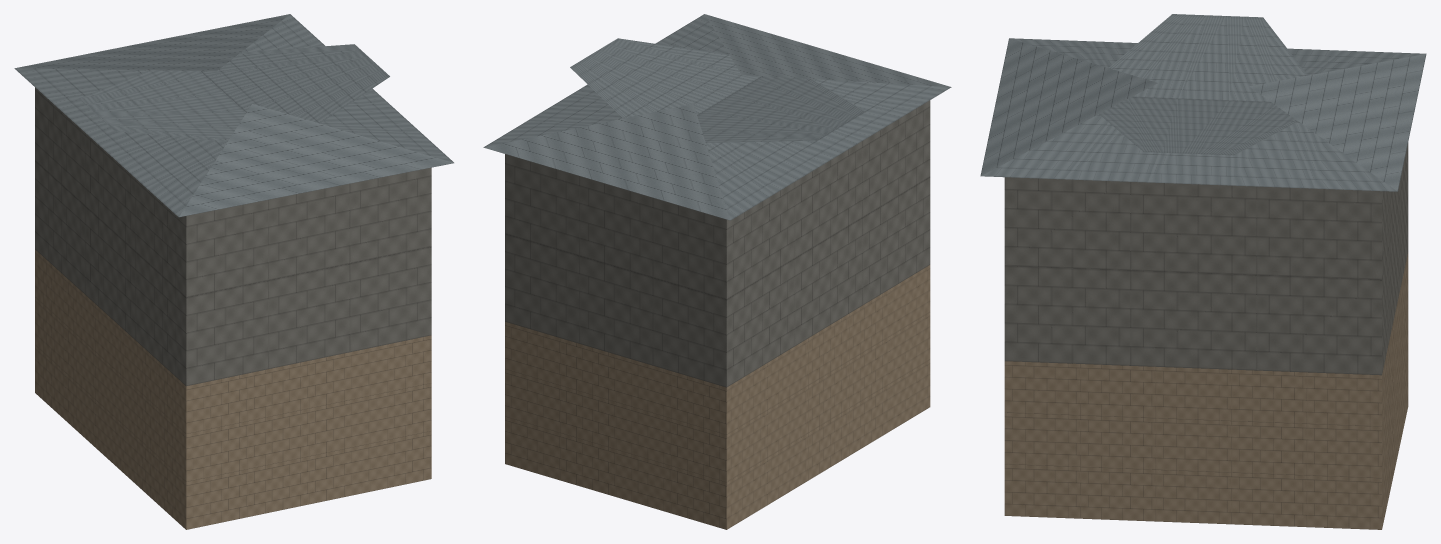
The model's file is bld_c32_-36_448.gltf.
3 renders of one model, left to right at view 1: azimuth 30°, elevation 25°; view 2: azimuth 150°, elevation 25°; view 3: azimuth 270°, elevation 25°, orthographic. The views are drawn at different scales.
Parts seen in each view (by area): view 1: bld_c32_-36_448; view 2: bld_c32_-36_448; view 3: bld_c32_-36_448.
Boxes of the visible parts, left/top/right/bottom form: bld_c32_-36_448: left=14, top=14, right=453, bottom=529; bld_c32_-36_448: left=483, top=14, right=951, bottom=529; bld_c32_-36_448: left=980, top=14, right=1426, bottom=529.
Bounding box in the file's own units: 10.85 × 12.4 × 13.33.
3 materials, 3 textured.
